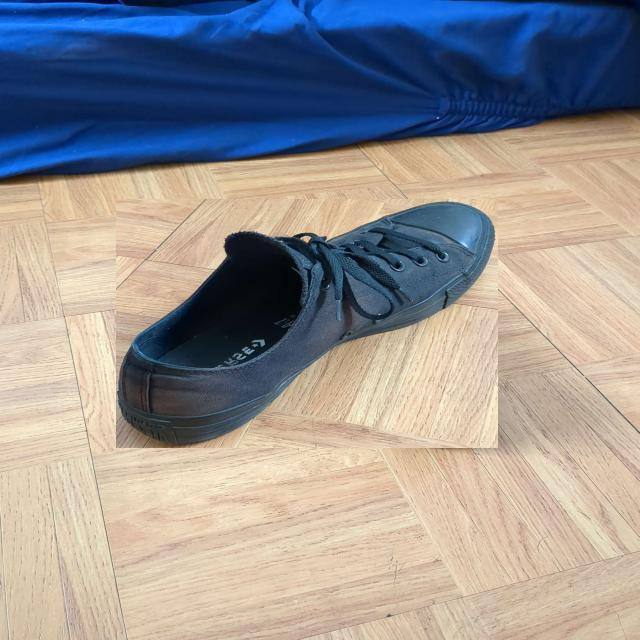shoes: (116, 199, 498, 448)
